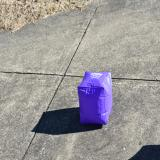cube: (77, 71, 113, 125)
